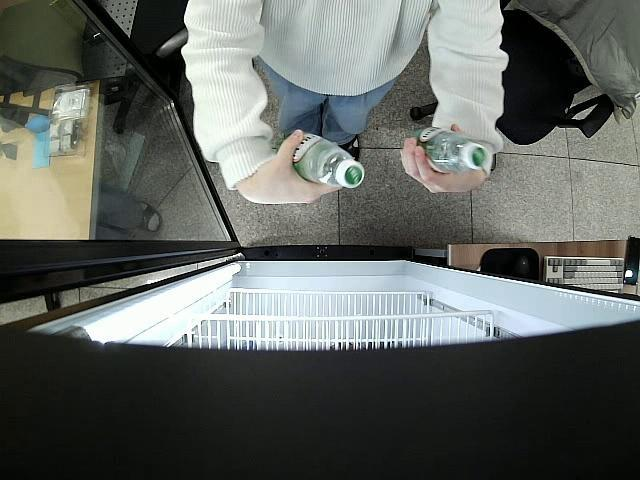18_trevi: (271, 129, 366, 192), (401, 124, 488, 175)
